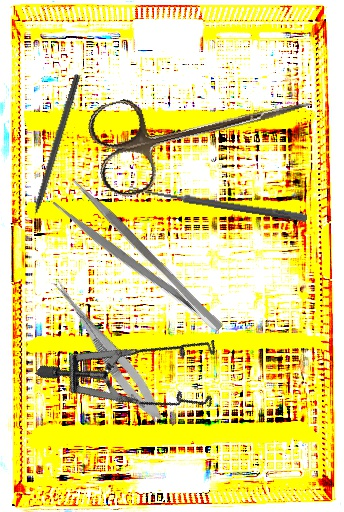Dressing Forceps: (50, 177, 228, 349)
Hook Surgical: (24, 72, 82, 235)
Iris Scissors: (83, 53, 322, 202)
Micro Scissor: (43, 275, 170, 427)
Speculum: (35, 268, 242, 465)
Surgical Spoon: (128, 184, 308, 223)
